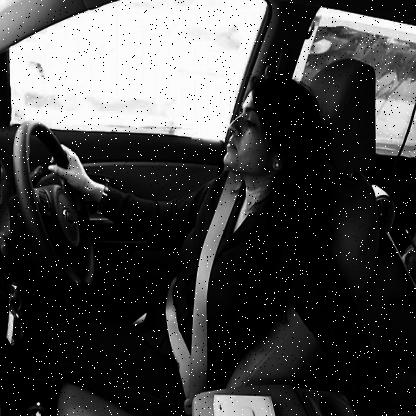seatbelt: (176, 77, 332, 286)
